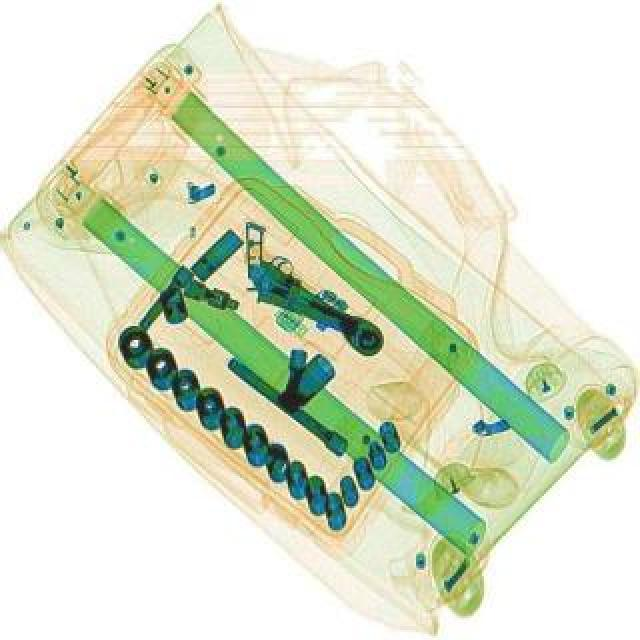gun: (218, 222, 402, 346)
